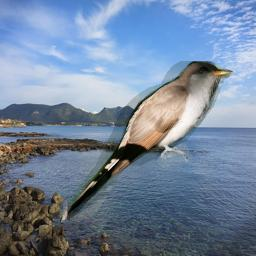Cuckoo: (60, 61, 235, 222)
